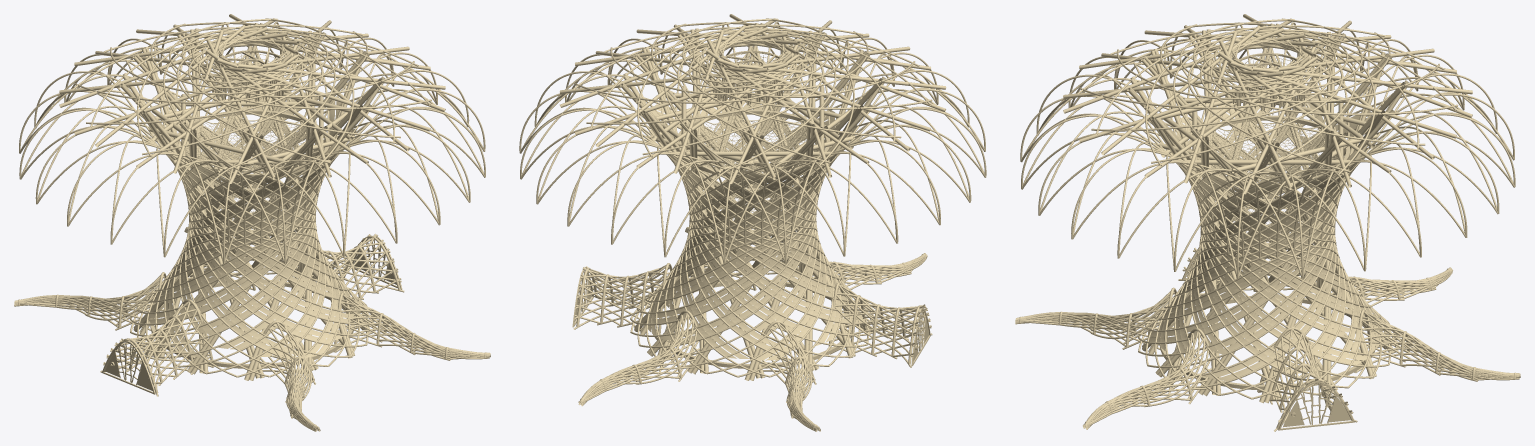
Rendered from tree_draco.glb.
The picture shows the model from 3 angles, left to right: view 1: azimuth 30°, elevation 25°; view 2: azimuth 150°, elevation 25°; view 3: azimuth 270°, elevation 25°; orthographic projection. The views are drawn at different scales.
Visible parts, largest first — view 1: phase_grid, phase_roof, phase_bark, phase_roots, phase_trunk, phase_limbs, phase_asper, phase_nets, phase_rings, phase_lights; view 2: phase_grid, phase_roof, phase_bark, phase_roots, phase_trunk, phase_limbs, phase_asper, phase_nets, phase_rings, phase_lights; view 3: phase_grid, phase_roof, phase_bark, phase_roots, phase_trunk, phase_limbs, phase_asper, phase_nets, phase_rings, phase_lights.
Boxes of the visible parts, x1,y1,x2,y2 form: phase_grid: (19,31,485,377); phase_roof: (59,14,445,183); phase_bark: (146,84,365,359); phase_roots: (14,227,490,431); phase_trunk: (119,23,385,380); phase_limbs: (19,21,485,263); phase_asper: (149,78,354,172); phase_nets: (180,111,324,228); phase_rings: (150,109,354,368); phase_lights: (214,50,284,111); phase_grid: (520,31,985,377); phase_roof: (559,14,946,183); phase_bark: (647,87,865,360); phase_roots: (572,227,932,431); phase_trunk: (620,23,885,380); phase_limbs: (519,21,986,263); phase_asper: (650,85,855,176); phase_nets: (681,111,824,228); phase_rings: (651,109,852,368); phase_lights: (714,50,783,114); phase_grid: (1021,32,1514,399); phase_roof: (1063,14,1472,194); phase_bark: (1148,93,1379,380); phase_roots: (1015,241,1520,431); phase_trunk: (1127,23,1408,403); phase_limbs: (1020,22,1515,278); phase_asper: (1159,81,1377,186); phase_nets: (1197,116,1344,241); phase_rings: (1159,115,1375,390); phase_lights: (1232,53,1305,119).
Bounding box in the file's own units: 9.97 × 6.78 × 10.17.
